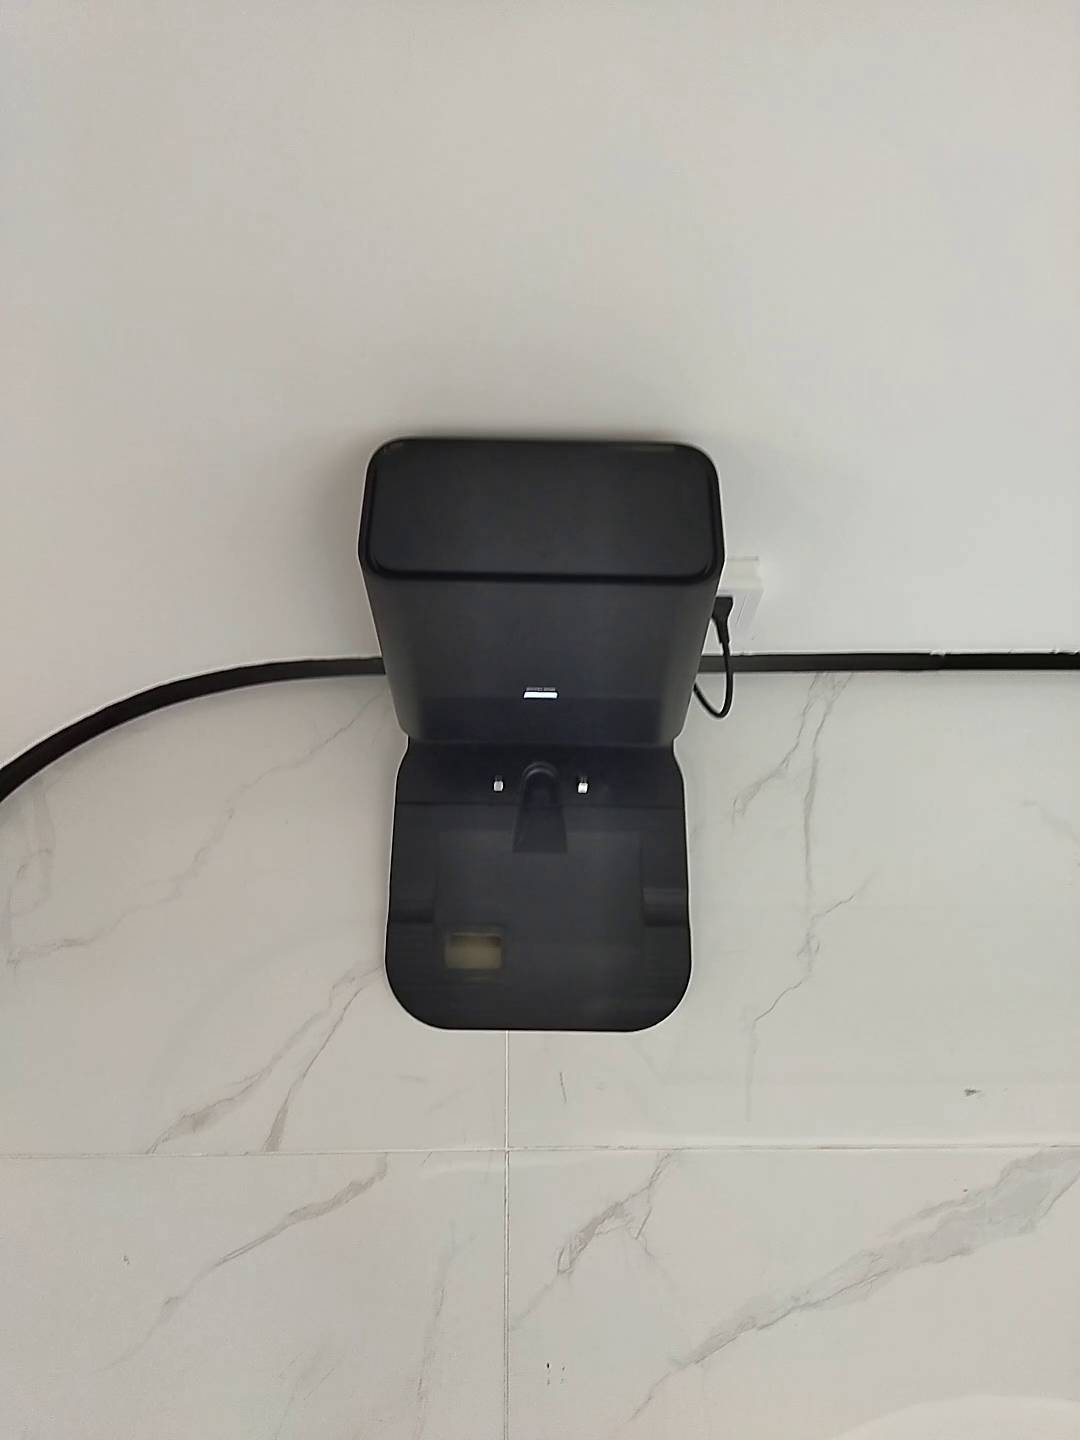dust collecting barrel: (357, 433, 729, 1033)
